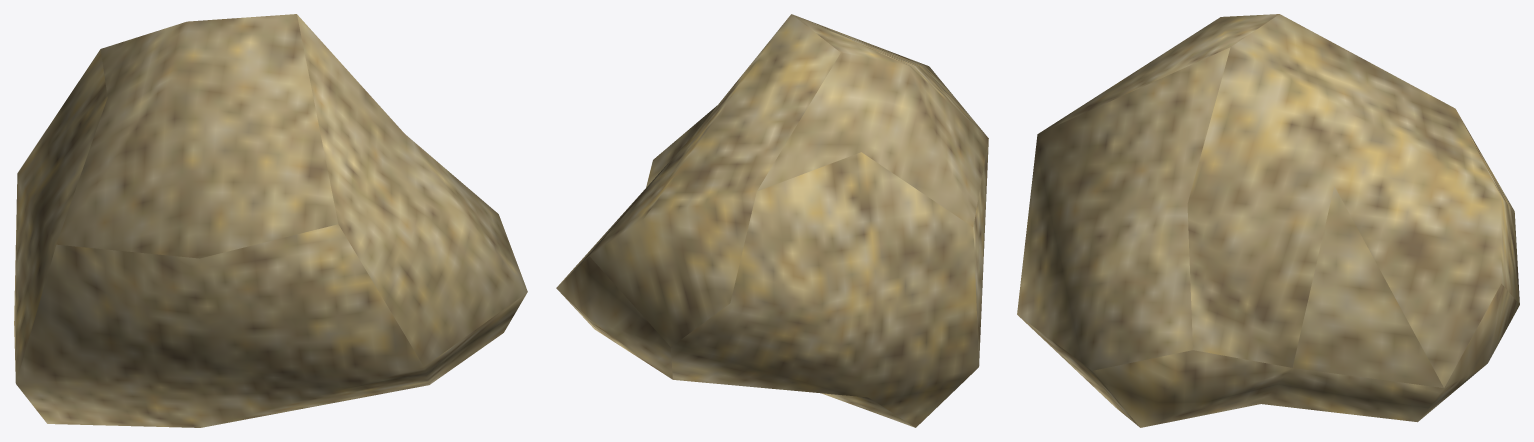
The model's file is mboulderdes_0.dae.
3 views of the same model, side by side, from view 1: azimuth 30°, elevation 25°; view 2: azimuth 150°, elevation 25°; view 3: azimuth 270°, elevation 25° (orthographic). The views are drawn at different scales.
Visible parts, largest first — view 1: mboulderdes_0; view 2: mboulderdes_0; view 3: mboulderdes_0.
Part boxes in pixels (left/top/right/bottom): mboulderdes_0: left=14, top=14, right=527, bottom=427; mboulderdes_0: left=556, top=14, right=988, bottom=427; mboulderdes_0: left=1017, top=14, right=1519, bottom=427.
Bounding box in the file's own units: 1.68 × 1.78 × 1.48.
1 material, 1 textured.
